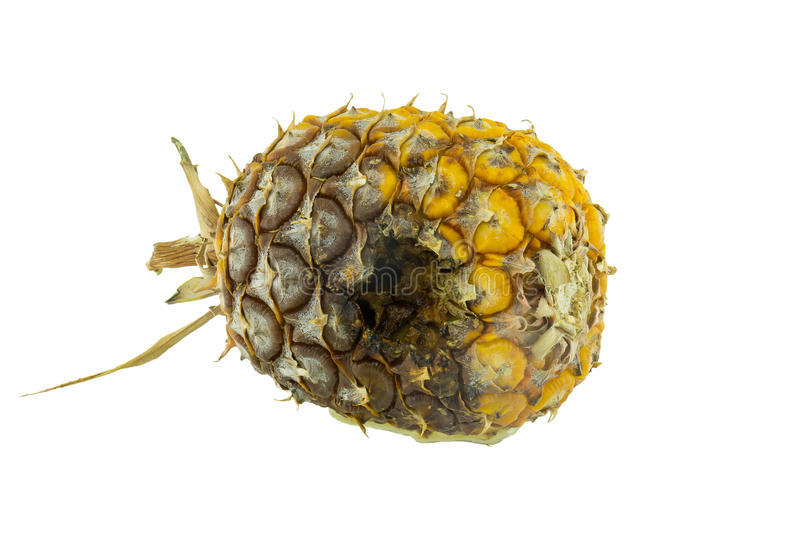damaged_pineapple: (213, 109, 609, 440)
